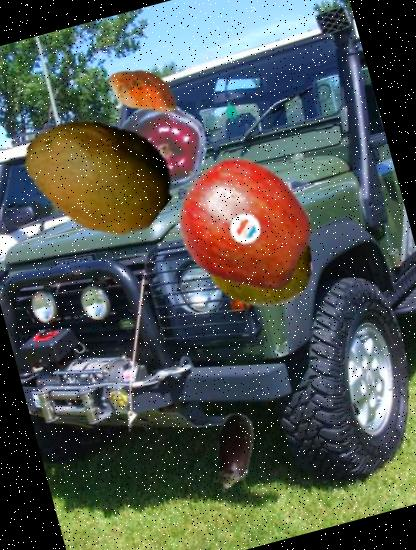Apple: (157, 136, 331, 310), (102, 90, 217, 206)
Eggplant: (184, 402, 286, 505)
Guava: (188, 190, 325, 328)
Papaya: (11, 83, 190, 262)
Potato: (98, 45, 190, 137)
